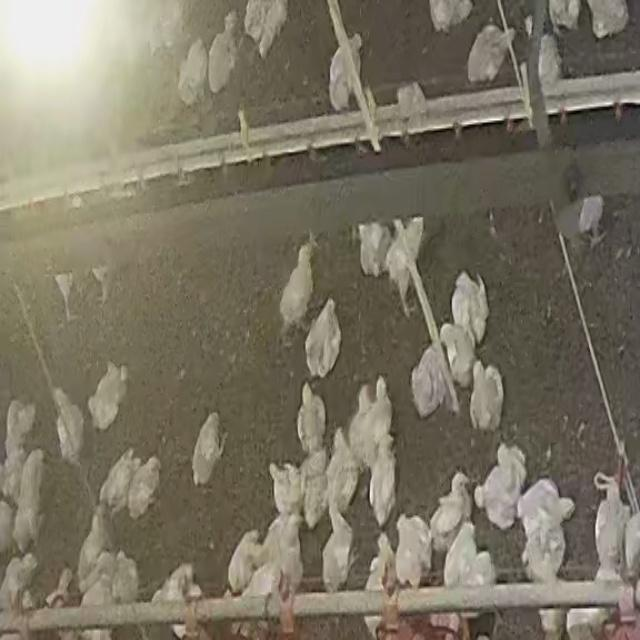chicken: (384, 217, 426, 319), (477, 445, 526, 531), (273, 236, 318, 326), (10, 448, 45, 551), (464, 23, 517, 85), (450, 270, 489, 348), (86, 362, 129, 432), (410, 342, 448, 420), (188, 409, 228, 483), (207, 12, 242, 96), (321, 506, 355, 592), (303, 297, 342, 371), (327, 33, 364, 111), (51, 388, 86, 470), (324, 431, 358, 512), (100, 447, 140, 515), (593, 477, 623, 566), (362, 367, 398, 441), (518, 480, 581, 522), (368, 439, 398, 527), (468, 361, 504, 434), (261, 509, 300, 575), (395, 514, 432, 583), (126, 456, 163, 521), (443, 520, 478, 588), (442, 322, 476, 391), (296, 382, 326, 457), (80, 510, 114, 575), (176, 38, 208, 106), (436, 472, 472, 532), (229, 530, 265, 588), (349, 380, 372, 468), (396, 81, 428, 142), (537, 31, 564, 91), (268, 463, 301, 511)
